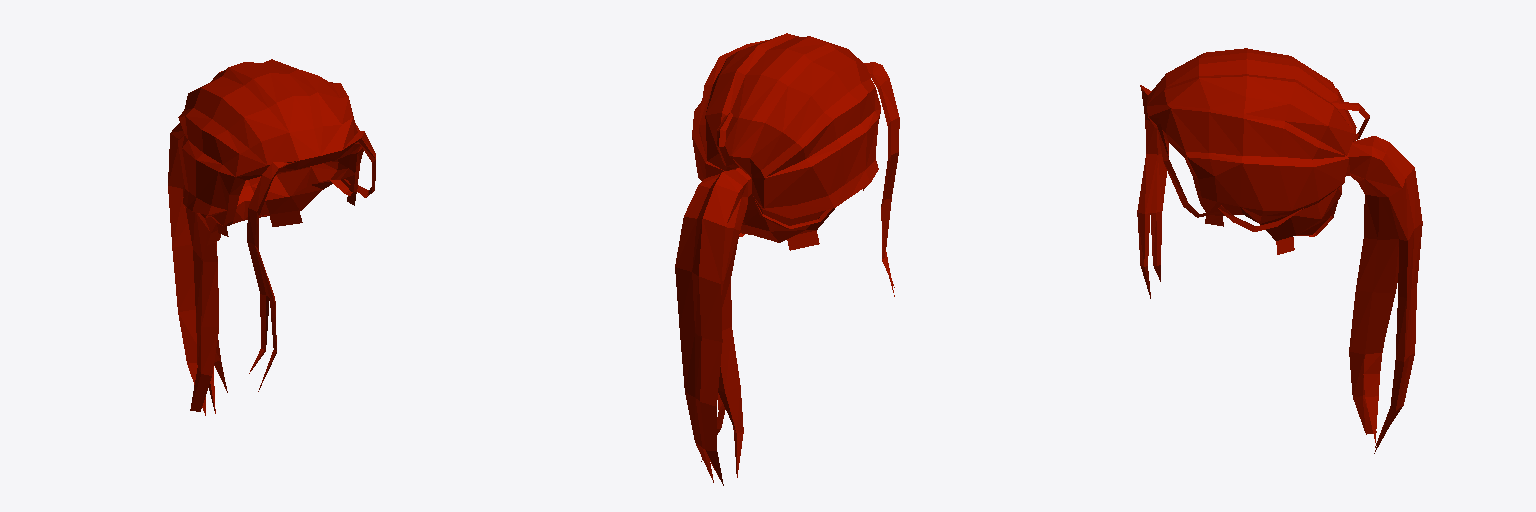
File: female_hair_ponytail2.obj
3 views of the same model, side by side, from view 1: azimuth 30°, elevation 25°; view 2: azimuth 150°, elevation 25°; view 3: azimuth 270°, elevation 25° (orthographic).
Parts seen in each view (by area): view 1: Hair_Cube; view 2: Hair_Cube; view 3: Hair_Cube.
Boxes of the visible parts, x1,y1,x2,y2 form: Hair_Cube: [168, 59, 375, 415]; Hair_Cube: [675, 33, 899, 485]; Hair_Cube: [1137, 48, 1422, 453].
Bounding box in the file's own units: 21.82 × 49.12 × 32.49.